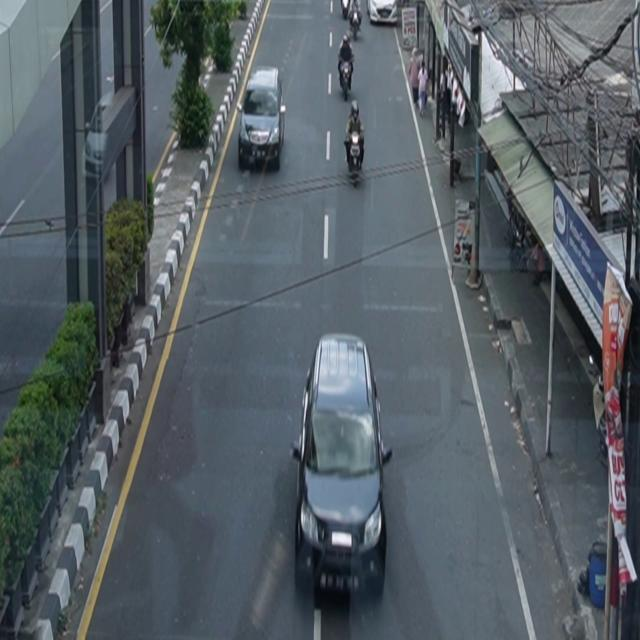car: (292, 333, 394, 600), (238, 66, 287, 172), (368, 1, 399, 26)
